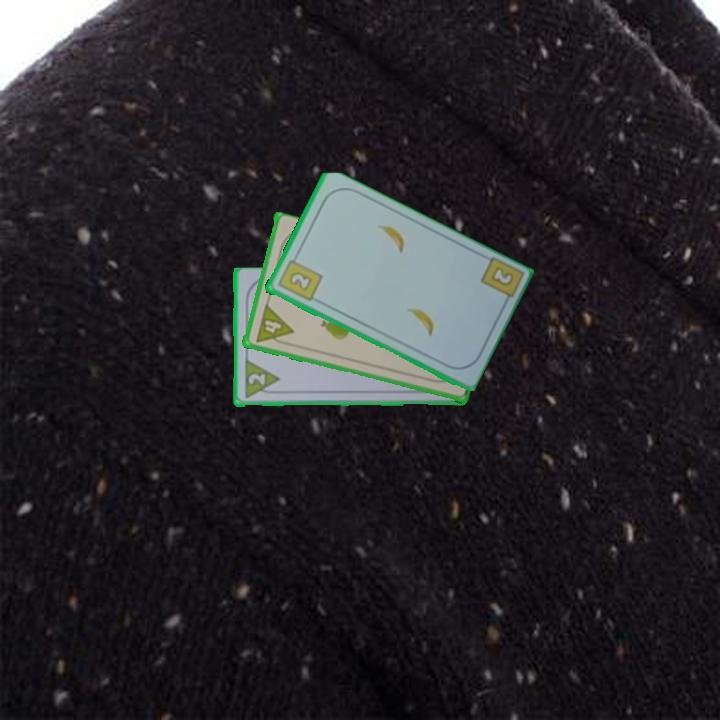2b: (274, 252, 325, 304), (487, 263, 514, 287)
2p: (244, 370, 268, 389)
4p: (252, 302, 295, 349)
